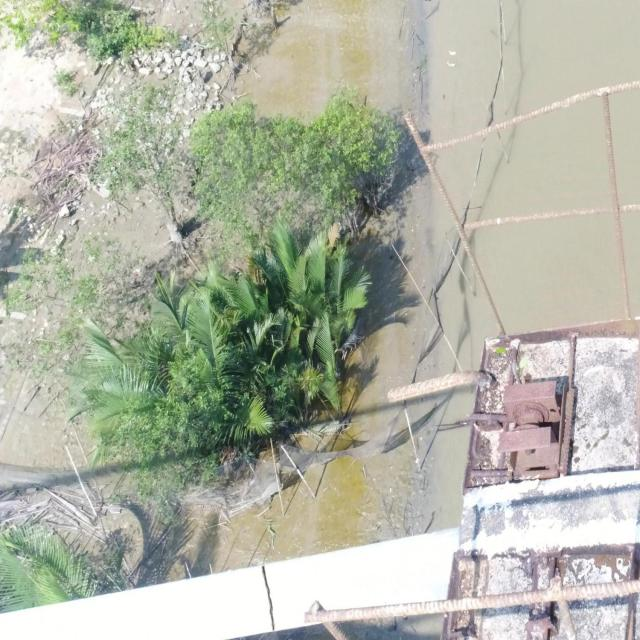crack: (261, 564, 277, 632)
